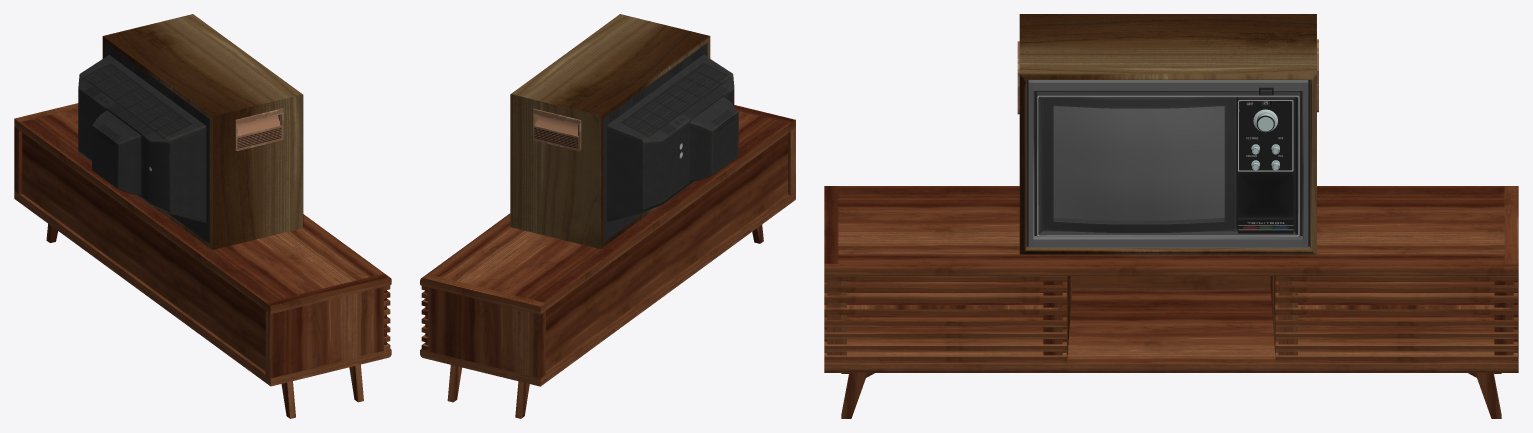
The picture shows the model from 3 angles, left to right: view 1: azimuth 30°, elevation 25°; view 2: azimuth 150°, elevation 25°; view 3: azimuth 270°, elevation 25°; orthographic projection. The views are drawn at different scales.
Visible parts, largest first — view 1: Stand_TV, Retro_TV; view 2: Stand_TV, Retro_TV; view 3: Stand_TV, Retro_TV.
Part boxes in pixels (x1,y1,x2,y2): Stand_TV: [14, 103, 391, 418]; Retro_TV: [78, 14, 303, 249]; Stand_TV: [420, 105, 795, 418]; Retro_TV: [510, 14, 738, 248]; Stand_TV: [824, 186, 1518, 418]; Retro_TV: [1017, 14, 1318, 254].
Size of the model in its own units: 1.32 by 1.92 by 3.47.
3 materials, 3 textured.
